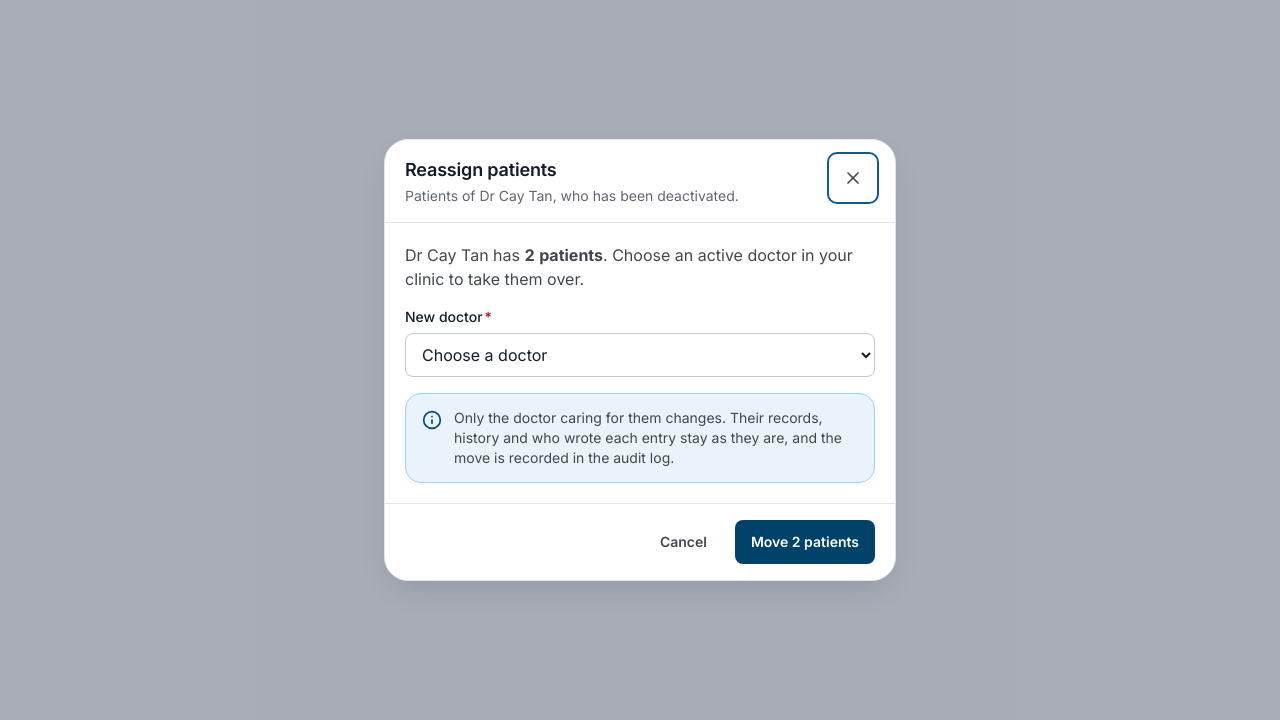
Test: reassigning a deactivated doctor’s patients › says a doctor is needed beside the field, and takes focus there, before sending anything
Click the button "Move 2 patients" at x=805, y=542, box top-left (735, 520), bottom-right (875, 564)
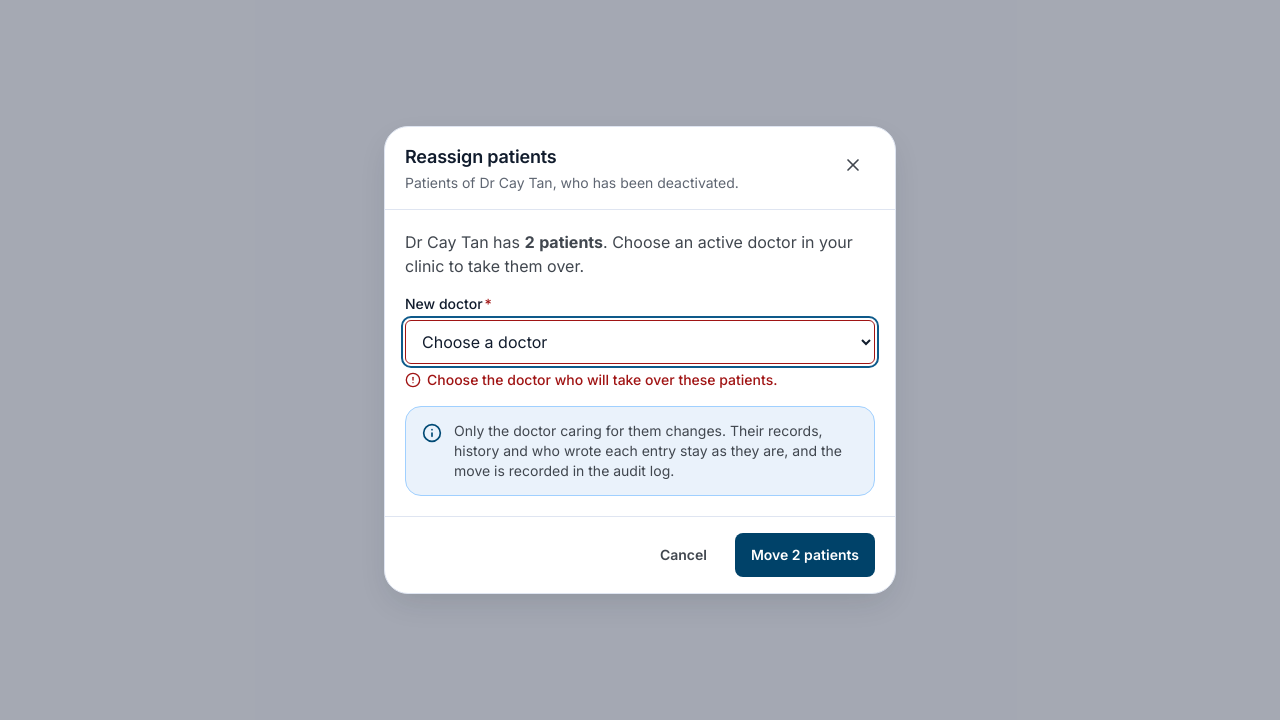
Expected: the text "Choose the doctor who will take over these patients." is shown, top-left (405, 371), bottom-right (777, 388)
